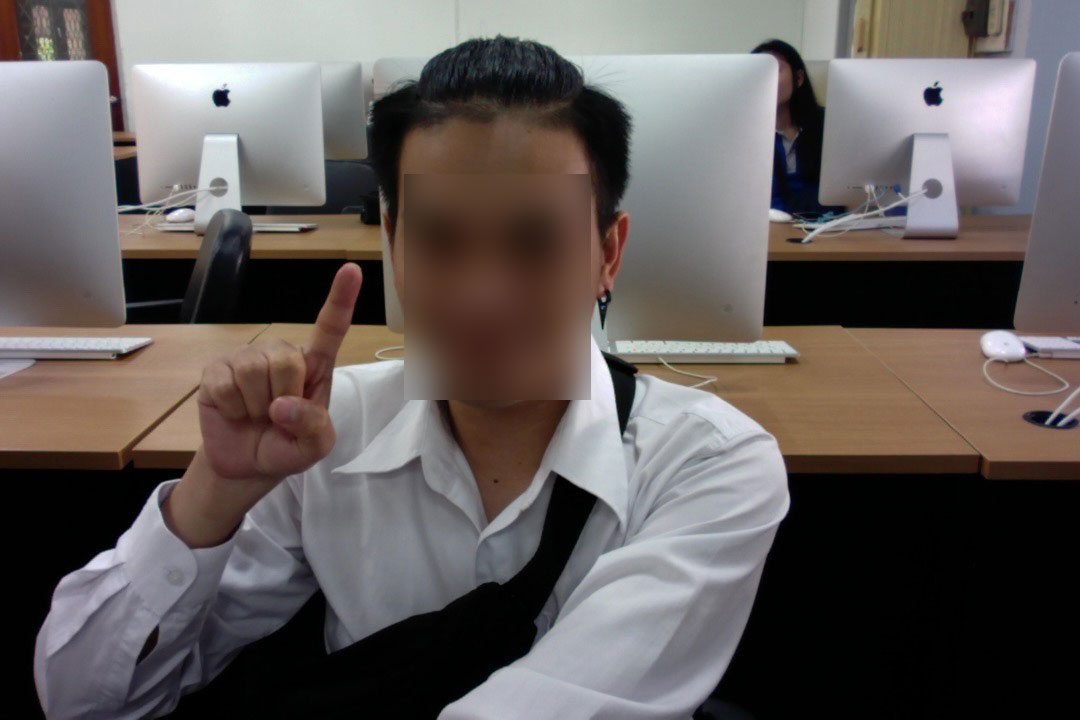dor: (156, 250, 368, 486)
